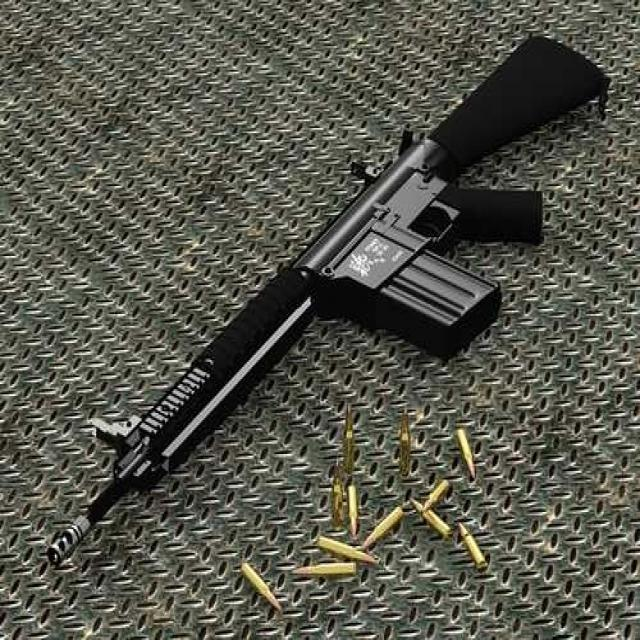weapon: (14, 15, 622, 598)
